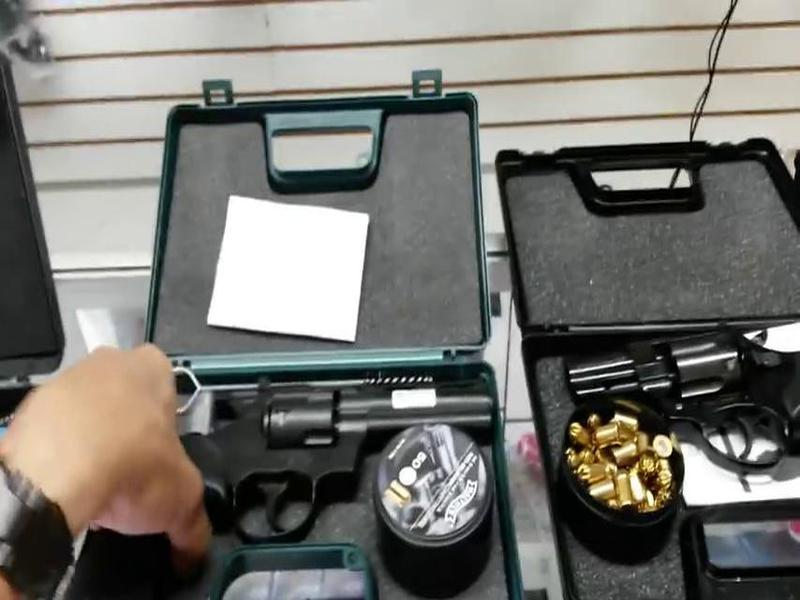Revolver: (104, 365, 524, 600), (562, 314, 800, 477)
